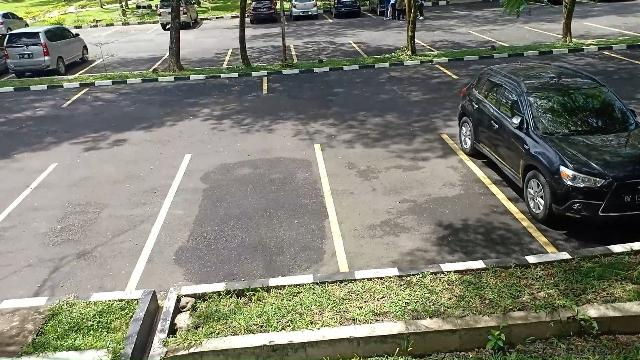empty: (158, 154, 336, 288), (11, 163, 159, 296), (319, 142, 477, 264), (265, 66, 455, 98), (66, 79, 266, 109), (91, 47, 169, 72), (161, 44, 231, 70), (358, 32, 424, 57), (489, 26, 561, 48), (293, 40, 359, 62), (424, 29, 490, 51), (227, 44, 295, 64)
occupied: (458, 103, 640, 234), (5, 31, 94, 79)
